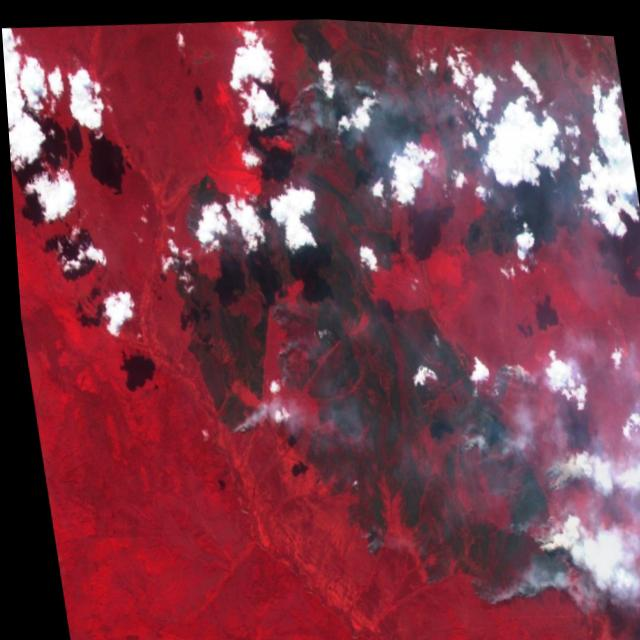fire: (422, 327, 593, 619), (186, 285, 308, 454), (233, 71, 324, 165), (169, 180, 214, 257), (345, 66, 380, 105)
